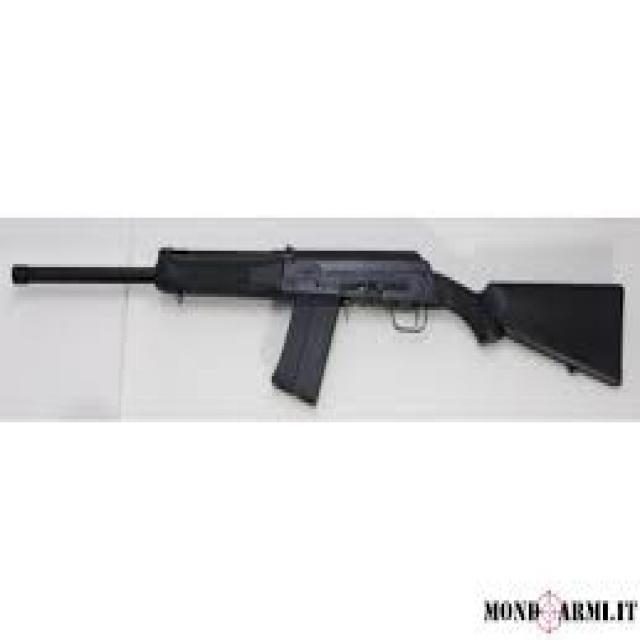weapon: (10, 244, 628, 412)
